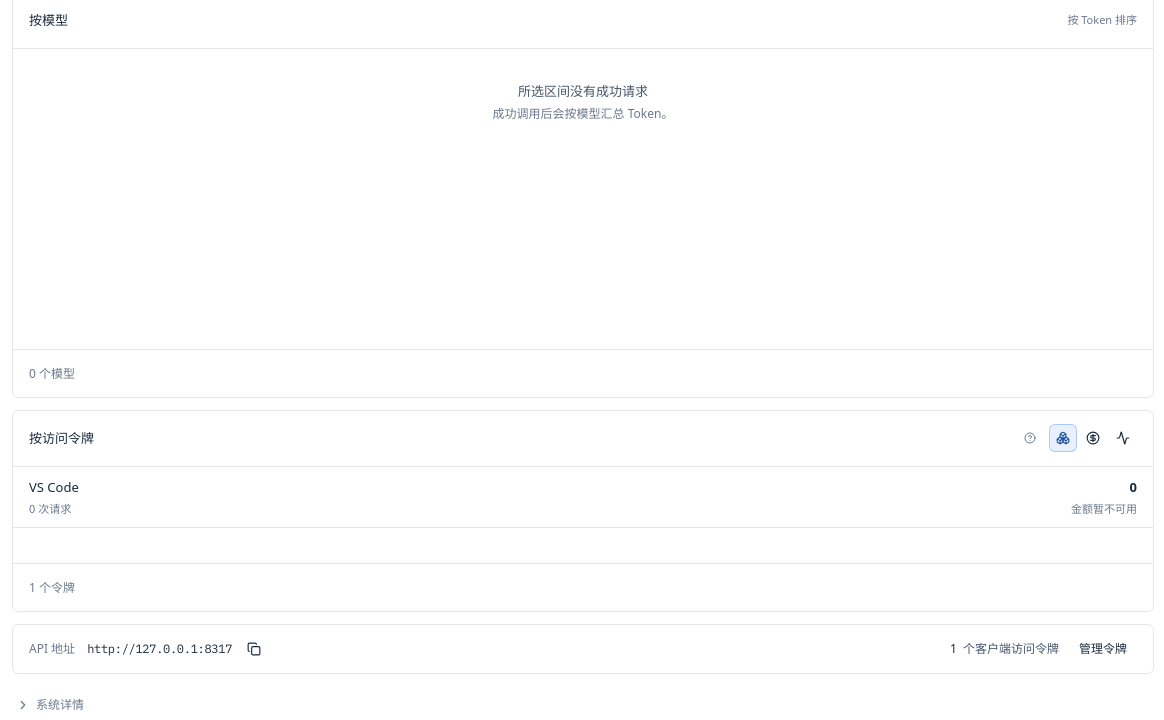
Test: Overview › collapses system details by default and expands them from the heading
Click the heading "系统详情".
click(50, 705)  # box 16,696 -> 84,714
(page scrolled)
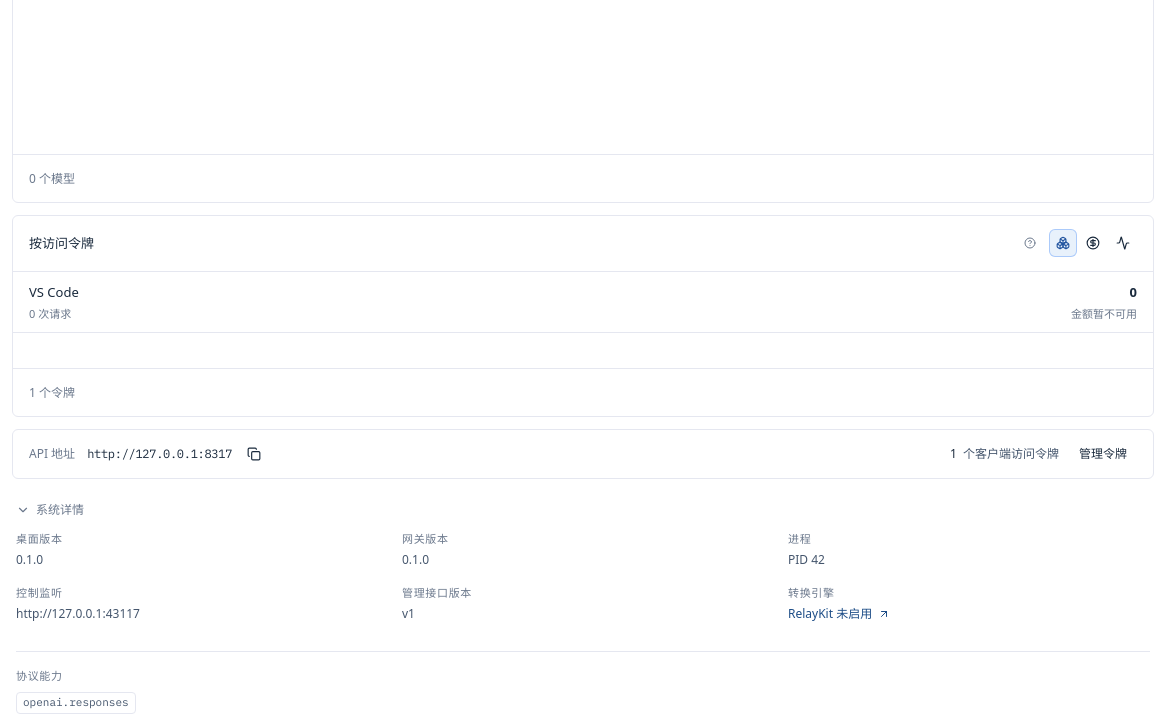
Now the element with id "system-details-heading" shows "协议能力", box 16,668 -> 63,683
